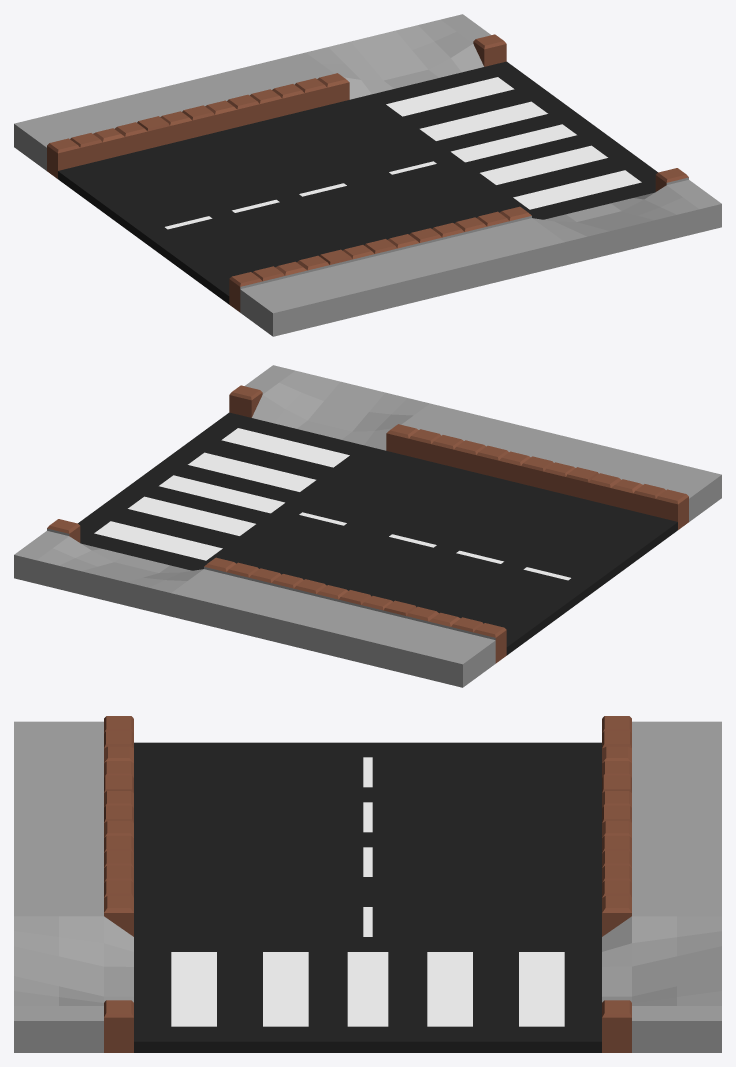
The model's file is road_H_4_Original.fbx.
3 views of the same model, one above another, from view 1: azimuth 30°, elevation 25°; view 2: azimuth 150°, elevation 25°; view 3: azimuth 270°, elevation 25° (orthographic). The views are drawn at different scales.
Parts seen in each view (by area): view 1: Road_H_4; view 2: Road_H_4; view 3: Road_H_4.
Boxes of the visible parts, x1,y1,x2,y2 form: Road_H_4: [14, 14, 721, 336]; Road_H_4: [14, 365, 721, 687]; Road_H_4: [14, 716, 721, 1052].
Bounding box in the file's own units: 100 × 6.05 × 100.
